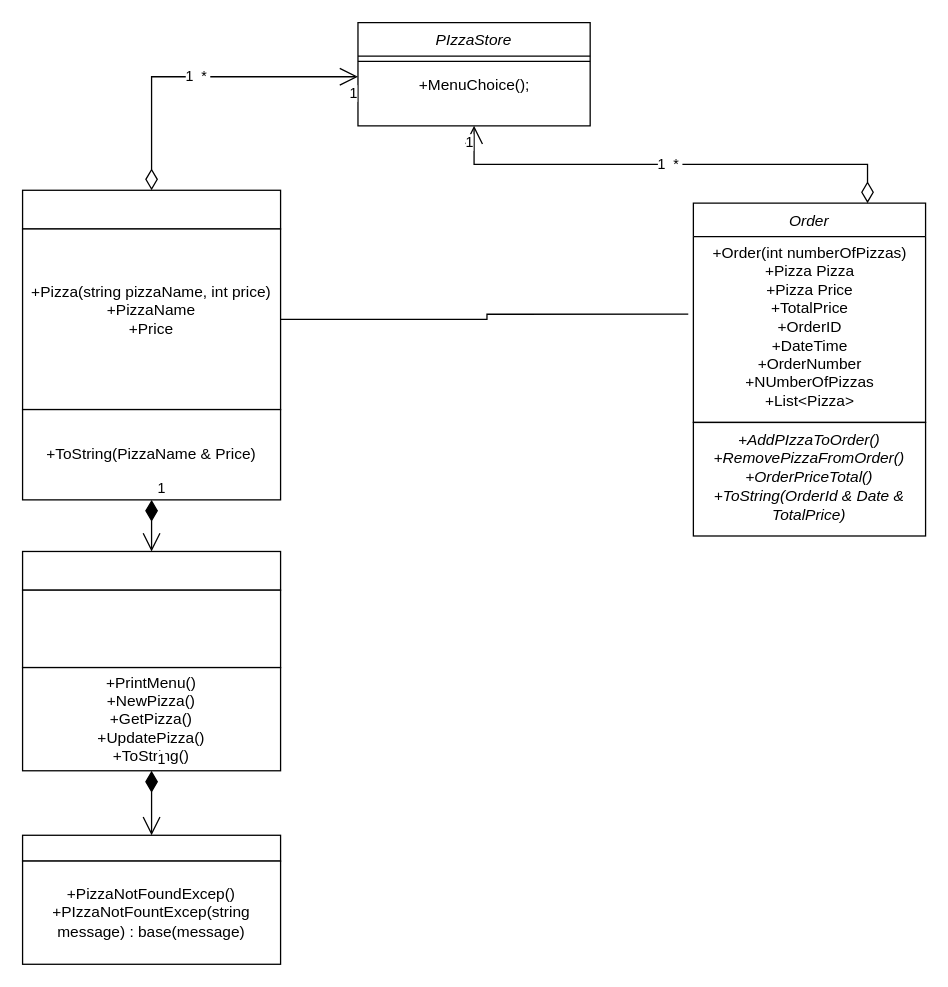
The diagram is 948 pixels wide and 987 high, and some of its shapes have lost their labels. The centre of each missing label's shape, as x and y in pixels:
"+MenuCatalog() +List<Pizza> +Pizza Pizza +TotalPrice" goes at [151,628].
"MenuCatalog" goes at [151,570].
"Pizza" goes at [151,209].
"PizzaNotFoundExcep" goes at [151,847].
